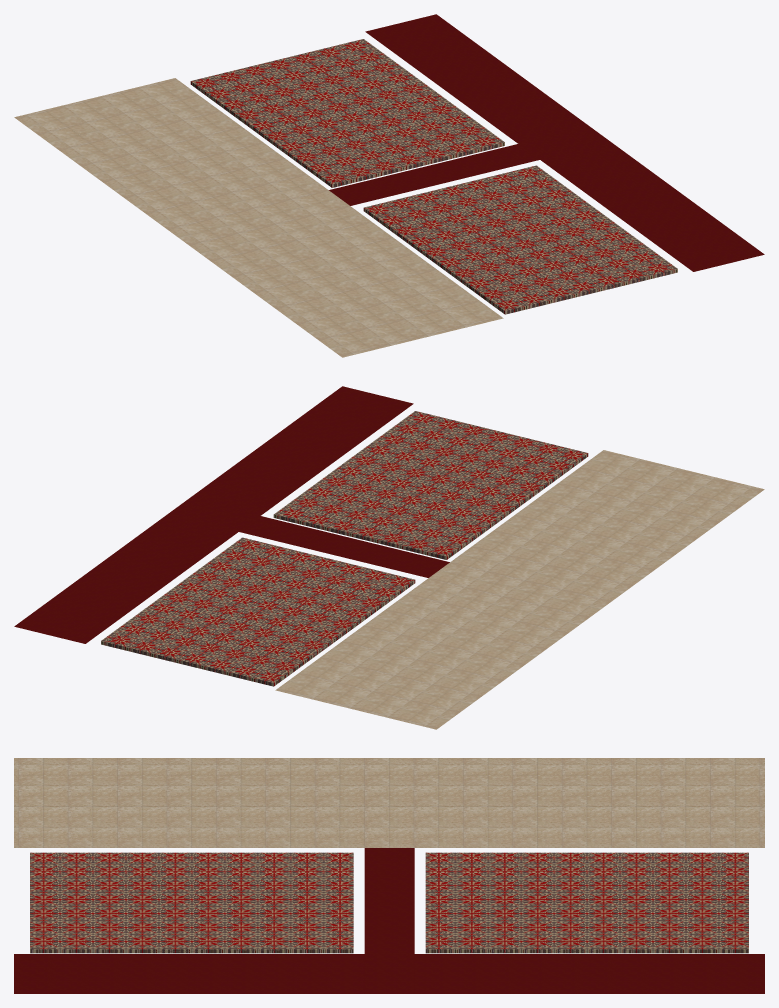
The model's file is Floor.fbx.
3 renders of one model, top to bottom at view 1: azimuth 30°, elevation 25°; view 2: azimuth 150°, elevation 25°; view 3: azimuth 270°, elevation 25°, orthographic. The views are drawn at different scales.
Parts seen in each view (by area): view 1: pasted__polySurface431; view 2: pasted__polySurface431; view 3: pasted__polySurface431.
Part boxes in pixels (x1,y1,x2,y2): pasted__polySurface431: [14, 14, 764, 357]; pasted__polySurface431: [14, 386, 764, 729]; pasted__polySurface431: [14, 758, 764, 993].
Size of the model in its own units: 2540 by 20 by 3420.
